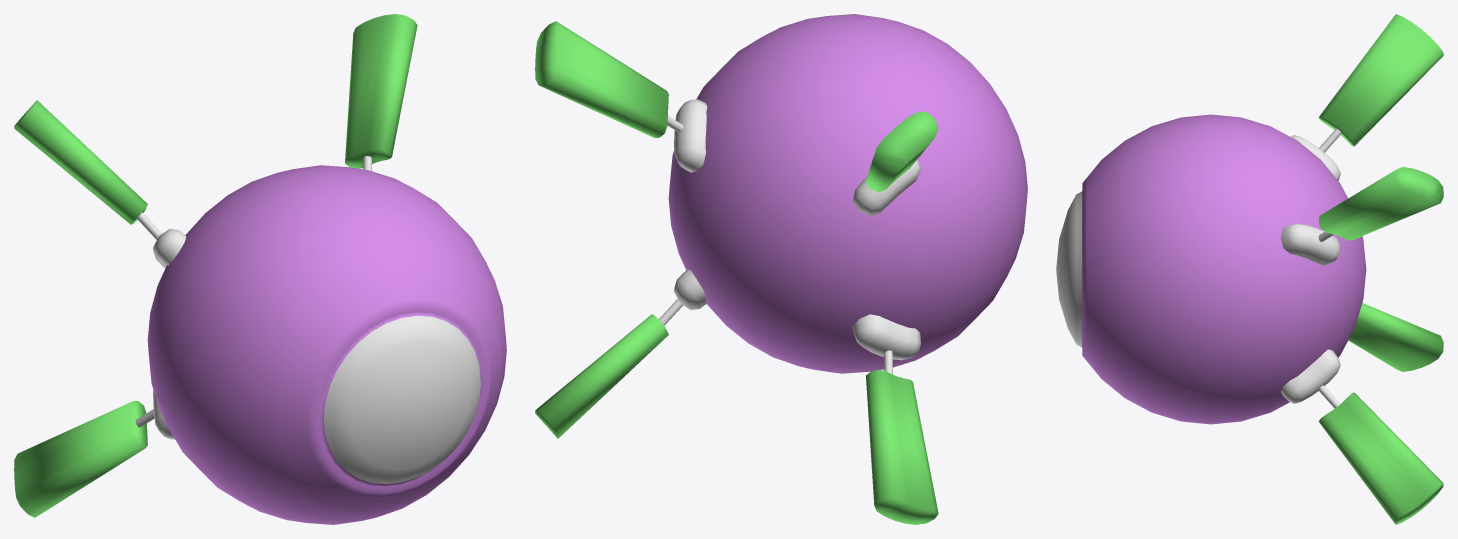
Rendered from PrecisionTarget.fbx.
3 views of the same model, side by side, from view 1: azimuth 30°, elevation 25°; view 2: azimuth 150°, elevation 25°; view 3: azimuth 270°, elevation 25° (orthographic). The views are drawn at different scales.
Visible parts, largest first — view 1: PrecisionTarget; view 2: PrecisionTarget; view 3: PrecisionTarget.
Part boxes in pixels (x1=…): PrecisionTarget: x1=14, y1=14, x2=506, y2=524; PrecisionTarget: x1=535, y1=14, x2=1027, y2=524; PrecisionTarget: x1=1056, y1=14, x2=1443, y2=524.
Bounding box in the file's own units: 1.28 × 1.26 × 1.25.
